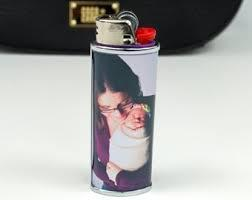lighter: (93, 12, 159, 190)
